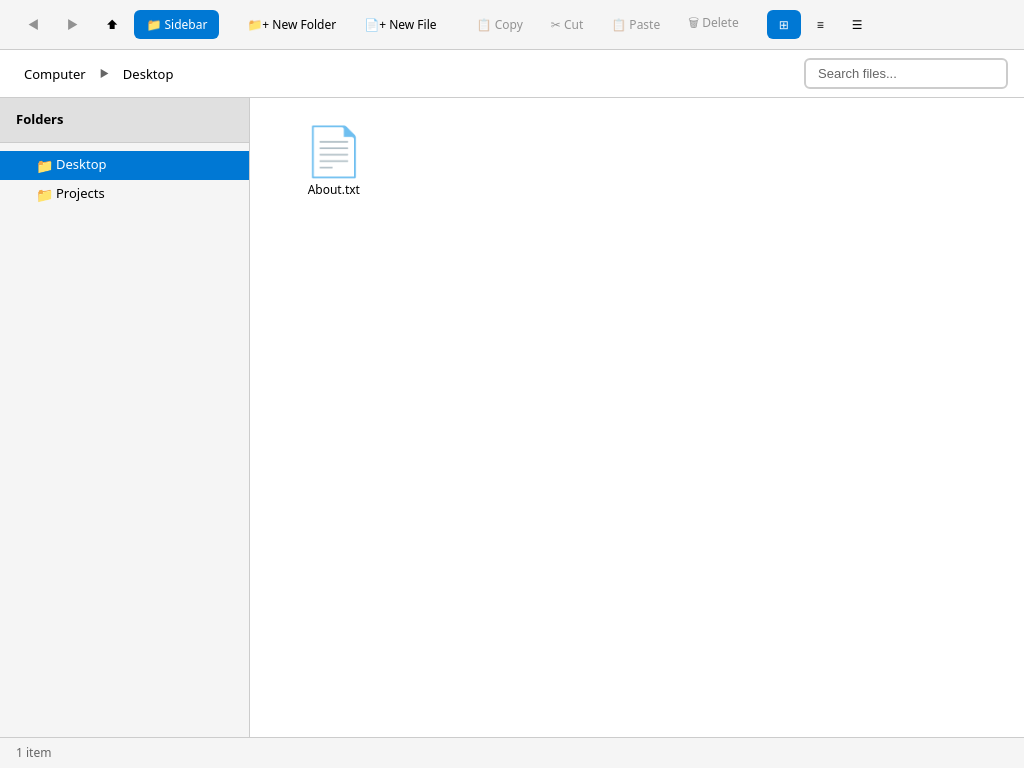
Test case: FileExplorerApp Component › toggles sidebar visibility
The width and height of the screenshot is (1024, 768).
Expected: the text "Folders" is shown, x1=16 y1=110 x2=63 y2=128
# Click to hide sidebar
Click the button titled "Toggle Sidebar" at x=177, y=24, box x1=134 y1=10 x2=219 y2=39
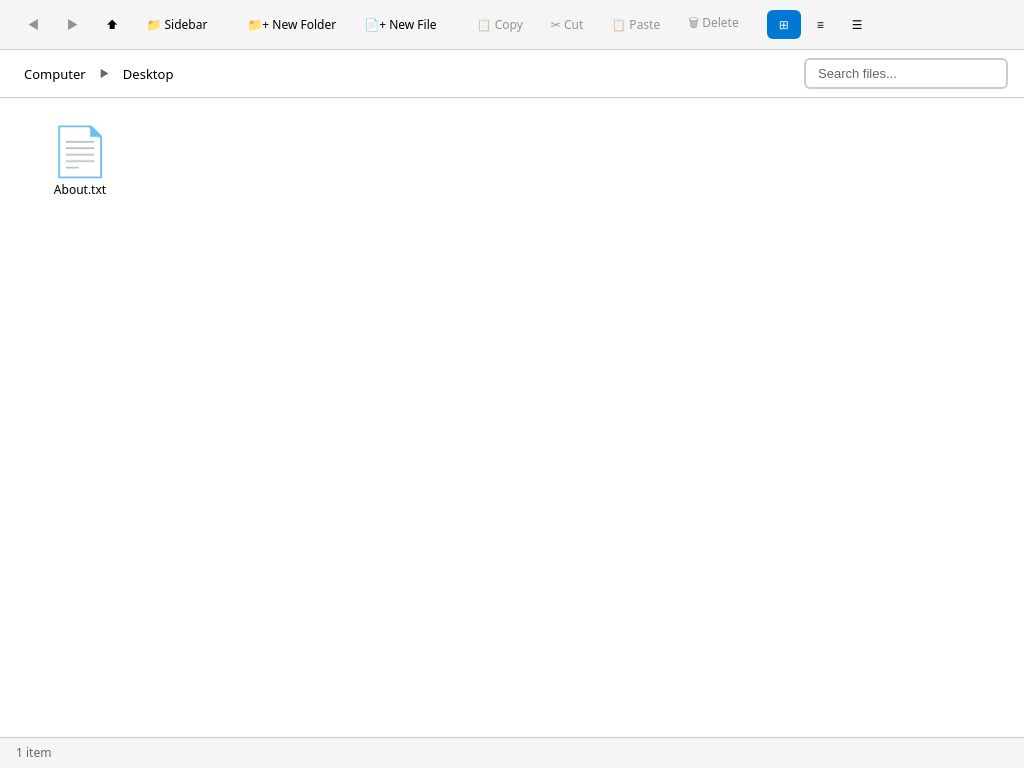
Now the text "Folders" is gone
